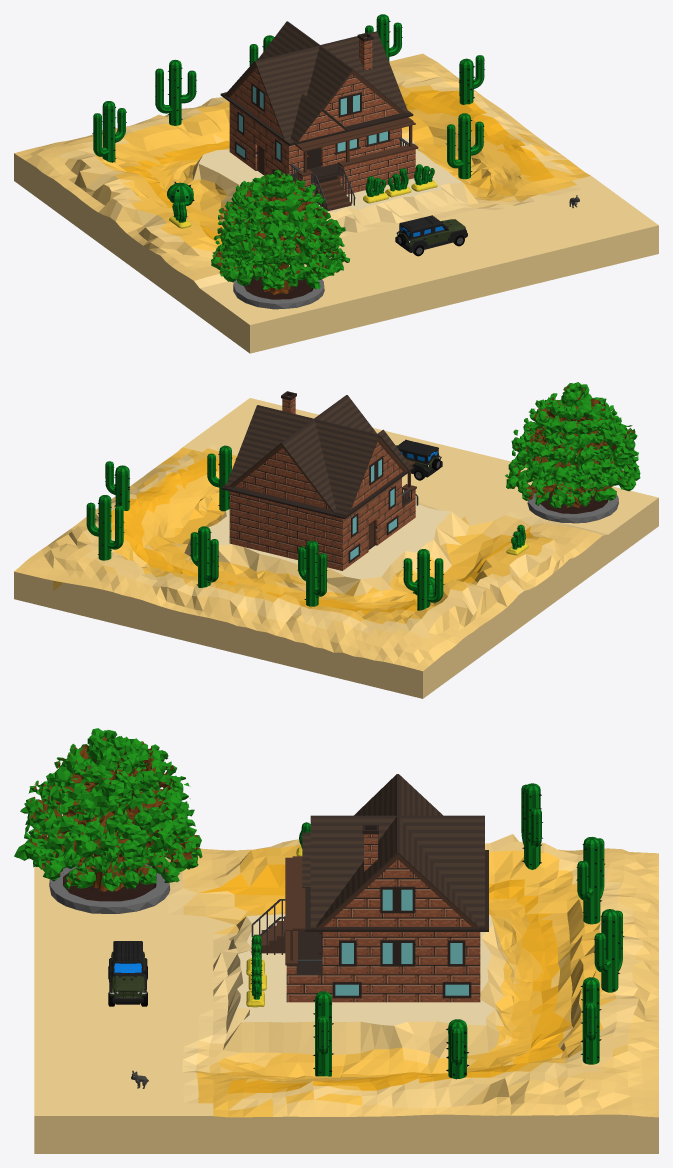
The picture shows the model from 3 angles, top to bottom: view 1: azimuth 30°, elevation 25°; view 2: azimuth 150°, elevation 25°; view 3: azimuth 270°, elevation 25°; orthographic projection. The views are drawn at different scales.
Visible parts, largest first — view 1: Cube.001, Cube.469, OBJRANDOM_CEIBA, VEHICLES_JEEP, Cylinder.044, Cylinder.037, Cylinder.045, Cylinder.038, Cylinder.042, Cylinder.041, Cylinder.039, Sphere.023 (+1 smaller); view 2: Cube.001, Cube.469, OBJRANDOM_CEIBA, Cylinder.042, Cylinder.045, Cylinder.044, Cylinder.043, VEHICLES_JEEP, Cylinder.037, Cylinder.038; view 3: Cube.001, Cube.469, OBJRANDOM_CEIBA, VEHICLES_JEEP, Cylinder.044, Cylinder.043, Cylinder.045, Cylinder.042, Cylinder.037, Cylinder.038.
Part boxes in pixels (bbox=[...]): Cube.001: bbox=[14, 53, 658, 353]; Cube.469: bbox=[220, 21, 418, 211]; OBJRANDOM_CEIBA: bbox=[211, 169, 349, 309]; VEHICLES_JEEP: bbox=[395, 215, 467, 256]; Cylinder.044: bbox=[155, 59, 196, 125]; Cylinder.037: bbox=[446, 113, 484, 179]; Cylinder.045: bbox=[92, 101, 126, 162]; Cylinder.038: bbox=[459, 55, 484, 104]; Cylinder.042: bbox=[365, 14, 402, 61]; Cylinder.041: bbox=[411, 164, 437, 191]; Cylinder.039: bbox=[363, 176, 388, 203]; Sphere.023: bbox=[167, 181, 194, 205]; Cube.001: bbox=[14, 398, 658, 698]; Cube.469: bbox=[221, 391, 418, 570]; OBJRANDOM_CEIBA: bbox=[505, 382, 640, 523]; Cylinder.042: bbox=[86, 495, 124, 560]; Cylinder.045: bbox=[403, 549, 444, 610]; Cylinder.044: bbox=[297, 540, 327, 606]; Cylinder.043: bbox=[190, 526, 218, 587]; VEHICLES_JEEP: bbox=[395, 439, 442, 480]; Cylinder.037: bbox=[207, 445, 236, 511]; Cylinder.038: bbox=[105, 461, 129, 510]; Cube.001: bbox=[34, 834, 658, 1153]; Cube.469: bbox=[251, 774, 488, 1002]; OBJRANDOM_CEIBA: bbox=[14, 728, 202, 913]; VEHICLES_JEEP: bbox=[108, 941, 147, 1006]; Cylinder.044: bbox=[576, 837, 604, 924]; Cylinder.043: bbox=[593, 909, 624, 992]; Cylinder.045: bbox=[521, 783, 542, 869]; Cylinder.042: bbox=[580, 977, 601, 1064]; Cylinder.037: bbox=[313, 991, 333, 1076]; Cylinder.038: bbox=[446, 1019, 469, 1079].
Bounding box in the file's own units: 4015 × 1630 × 4132.
Materials: 30 (3 with a texture image).
